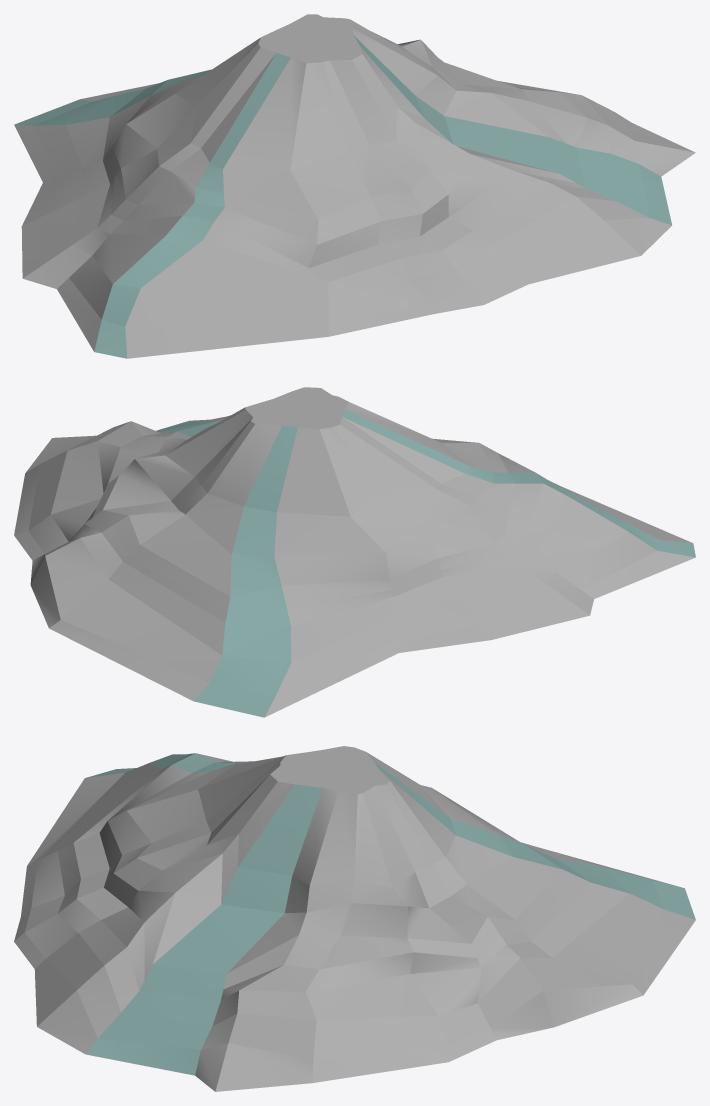
The model's file is main_hill_dome_a_0001.fbx.
The picture shows the model from 3 angles, top to bottom: view 1: azimuth 30°, elevation 25°; view 2: azimuth 150°, elevation 25°; view 3: azimuth 270°, elevation 25°; orthographic projection. The views are drawn at different scales.
Parts seen in each view (by area): view 1: pCube1; view 2: pCube1; view 3: pCube1.
Part boxes in pixels (x1=…): pCube1: x1=14, y1=14, x2=695, y2=358; pCube1: x1=14, y1=387, x2=695, y2=717; pCube1: x1=14, y1=746, x2=695, y2=1091.
Size of the model in its own units: 56.76 by 14.8 by 49.71.
